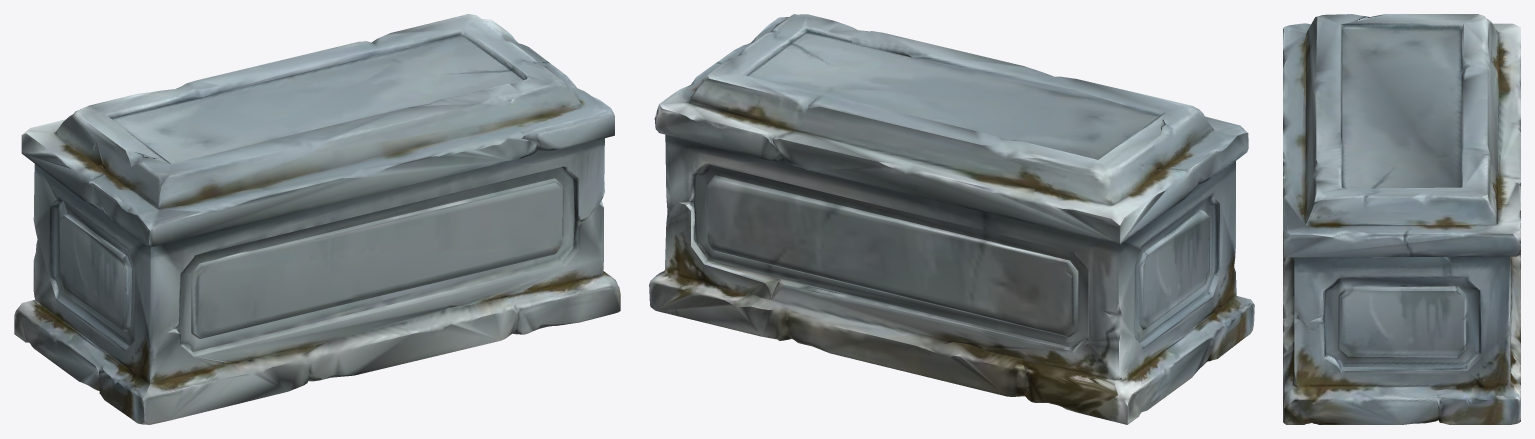
File: box_tomb.glb
3 views of the same model, side by side, from view 1: azimuth 30°, elevation 25°; view 2: azimuth 150°, elevation 25°; view 3: azimuth 270°, elevation 25° (orthographic). The views are drawn at different scales.
Visible parts, largest first — view 1: model; view 2: model; view 3: model.
Part boxes in pixels (x1,y1,x2,y2): model: (14, 14, 620, 424); model: (649, 14, 1254, 424); model: (1283, 14, 1520, 424).
Size of the model in its own units: 2.19 by 1 by 1.02.
1 material, 1 textured.
